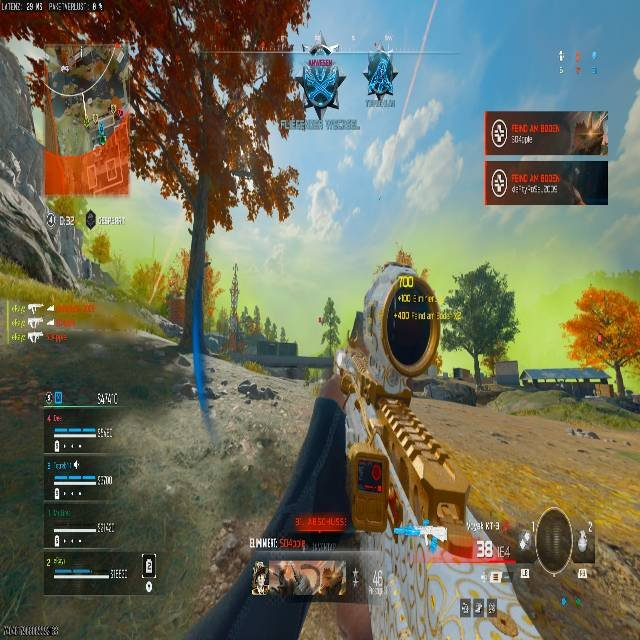player: (365, 55, 398, 100)
